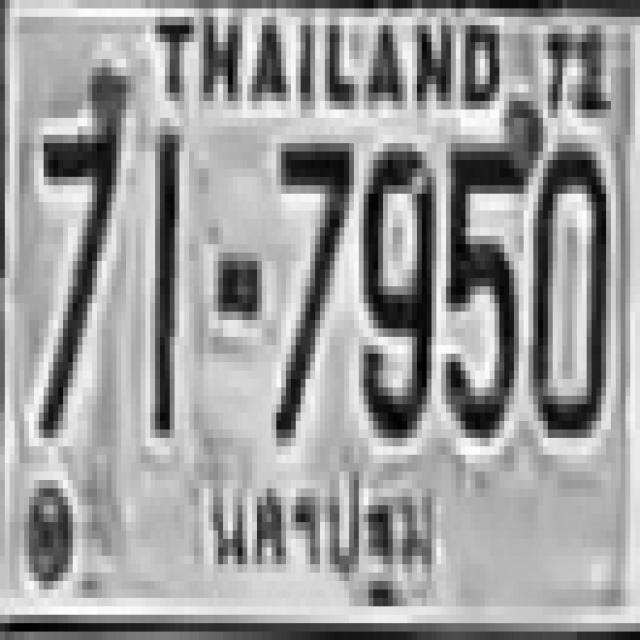0: (529, 135, 606, 429)
1: (148, 130, 177, 434)
5: (441, 135, 524, 429)
7: (36, 71, 124, 434), (272, 135, 349, 438)
9: (359, 139, 431, 425)
NakhonPathom: (204, 456, 438, 606)
